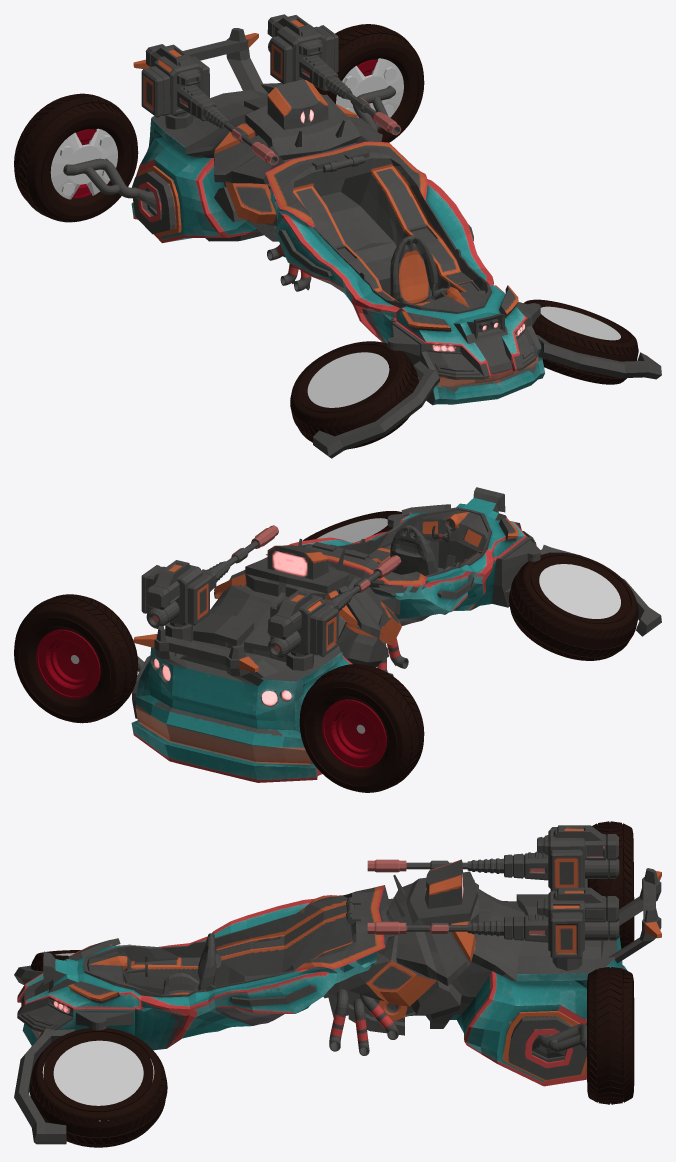
The model's file is Car.fbx.
The picture shows the model from 3 angles, top to bottom: view 1: azimuth 30°, elevation 25°; view 2: azimuth 150°, elevation 25°; view 3: azimuth 270°, elevation 25°; orthographic projection. The views are drawn at different scales.
Parts seen in each view (by area): view 1: Body, Rear wheel, Front Wheel; view 2: Body, Rear wheel, Front Wheel; view 3: Body, Front Wheel, Rear wheel.
Part boxes in pixels (left/top/right/bottom): Body: left=63, top=14, right=661, bottom=458; Rear wheel: left=14, top=24, right=424, bottom=222; Front Wheel: left=290, top=299, right=638, bottom=449; Body: left=131, top=487, right=661, bottom=782; Rear wheel: left=14, top=594, right=424, bottom=792; Front Wheel: left=302, top=511, right=638, bottom=660; Body: left=14, top=825, right=661, bottom=1144; Front Wheel: left=29, top=950, right=167, bottom=1147; Rear wheel: left=586, top=821, right=634, bottom=1104.
Size of the model in its own units: 547 by 264 by 735.
